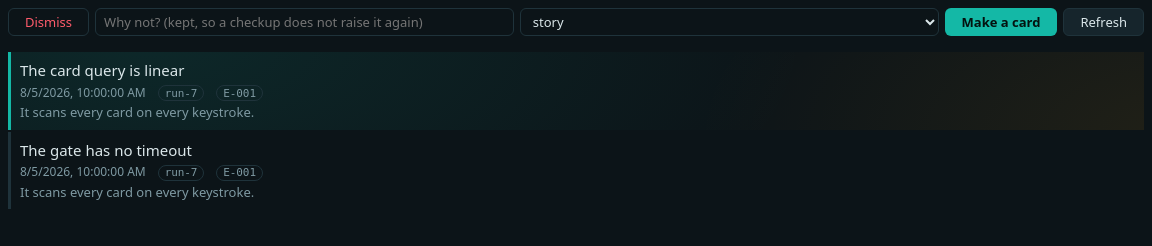
Test: the Suggestions pane › clears what it said about one suggestion when another is picked
Click the button "Make a card": {"x": 1001, "y": 22} left=944, top=8, right=1057, bottom=36
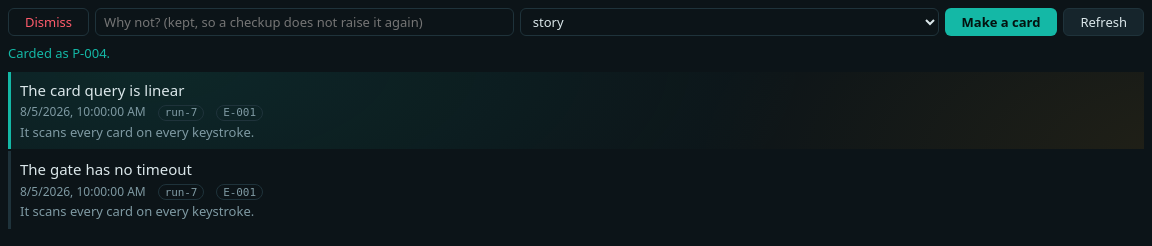
Result: the text "Carded as P-004." is shown at left=8, top=44, right=110, bottom=62
Click the text "The gate has no timeout": {"x": 106, "y": 169} left=20, top=159, right=192, bottom=179
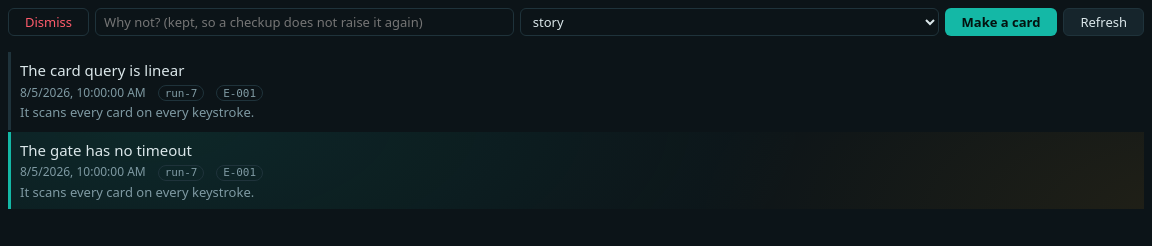
Result: the text "P-004" is gone
